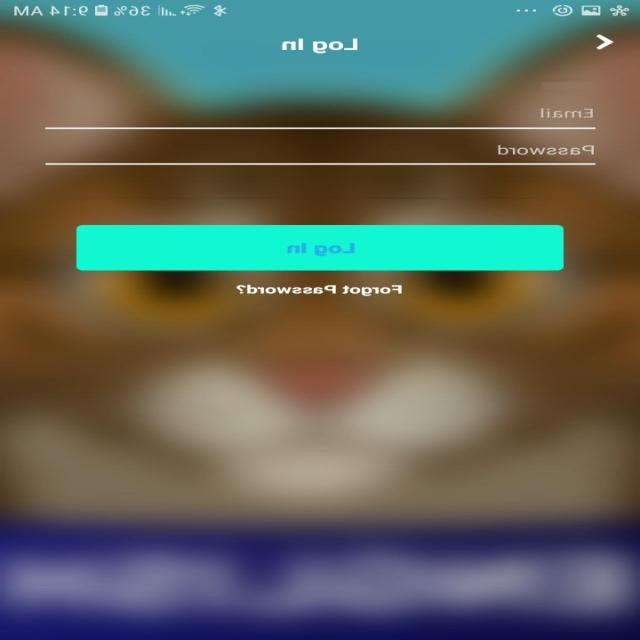BackgroundImage: (1, 17, 640, 639)
EditText: (45, 108, 596, 130), (46, 144, 596, 166)
Icon: (596, 34, 614, 50)
Text: (236, 284, 402, 296), (282, 38, 358, 54), (498, 145, 594, 155), (540, 108, 593, 118)
TextButton: (76, 224, 564, 271)
